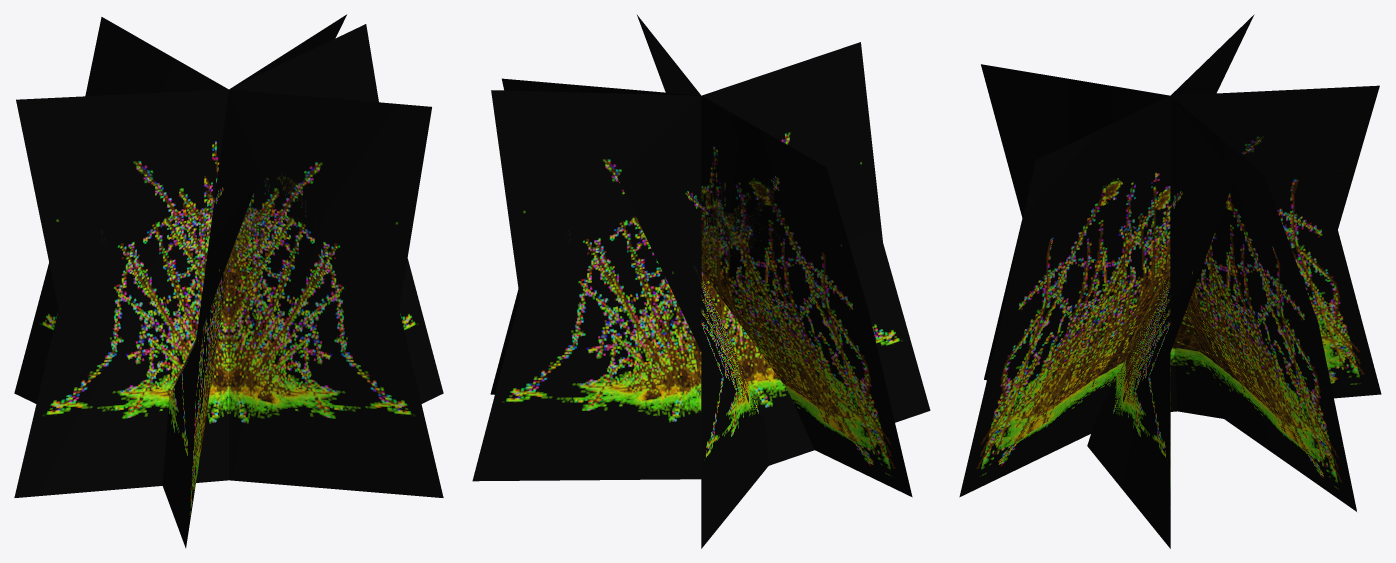
The model's file is grass.fbx.
3 renders of one model, left to right at view 1: azimuth 30°, elevation 25°; view 2: azimuth 150°, elevation 25°; view 3: azimuth 270°, elevation 25°, orthographic.
Visible parts, largest first — view 1: grasss3; view 2: grasss3; view 3: grasss3.
Part boxes in pixels (left/top/right/bottom): grasss3: left=14, top=14, right=443, bottom=548; grasss3: left=472, top=15, right=930, bottom=548; grasss3: left=959, top=14, right=1381, bottom=548.
Bounding box in the file's own units: 1.26 × 1 × 1.09.
